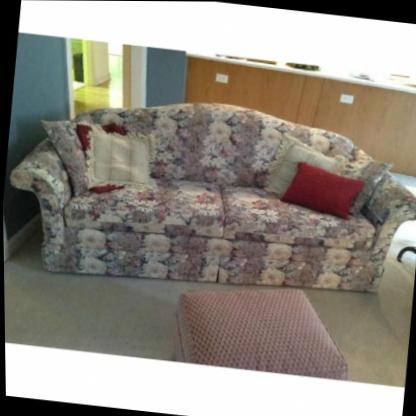Sofa: (1, 78, 416, 308)
